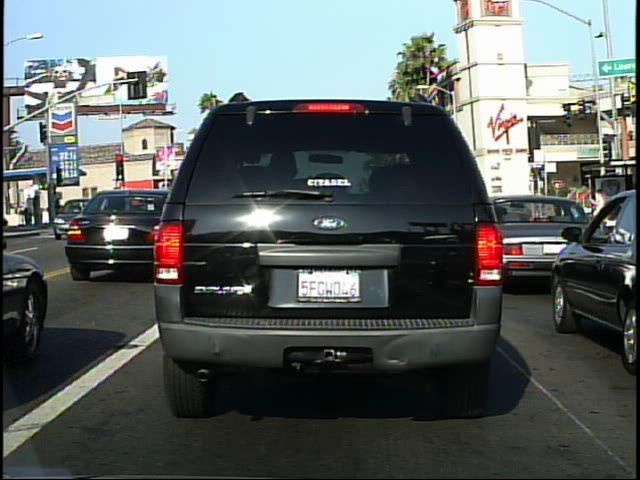person: (588, 184, 611, 245)
